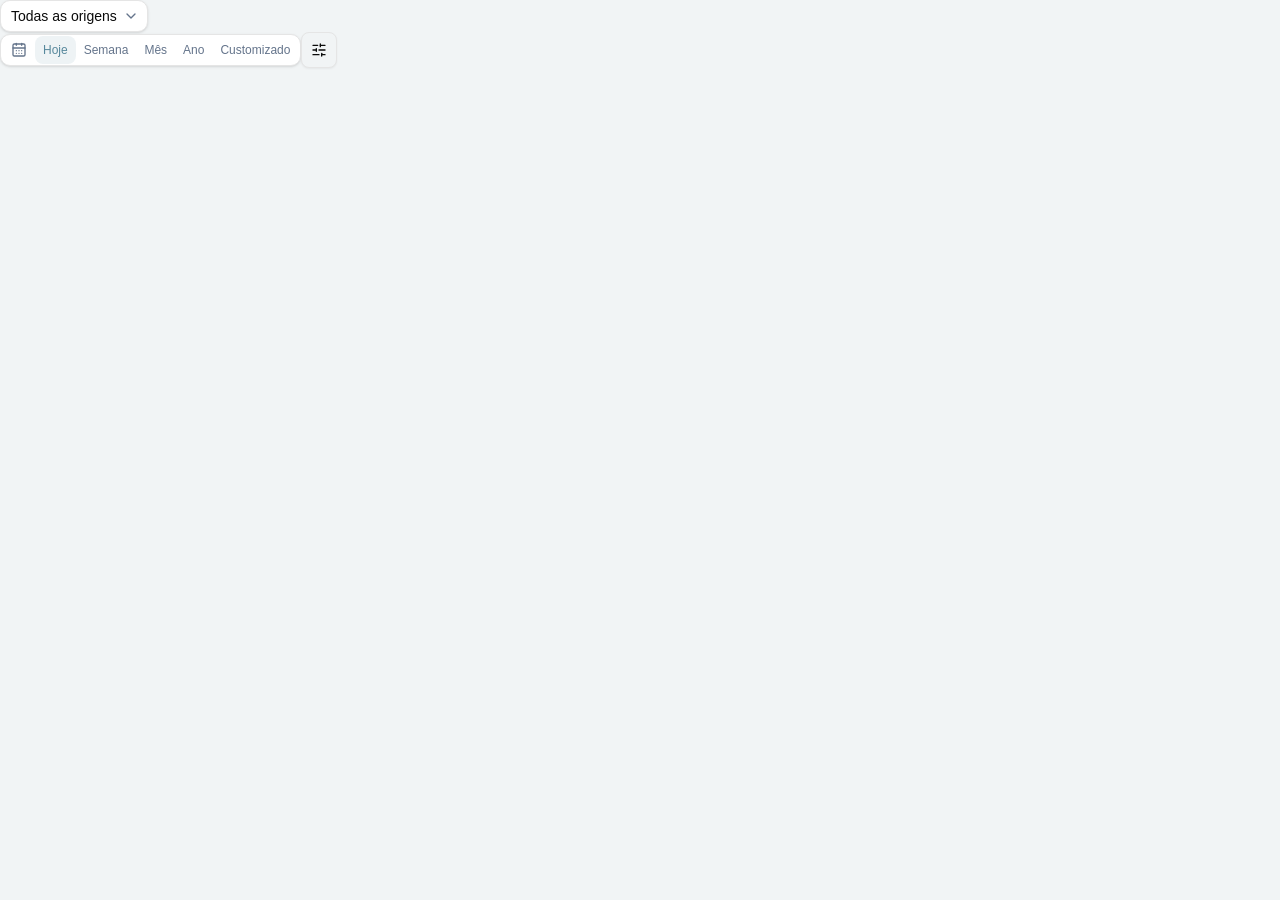
Test: FiltersControls › opens the filter drawer when Customizado is selected
Expected: the field labelled "Início" is not shown
Step 1. Click the button "Customizado" → (255, 50), box [212,36,298,64]
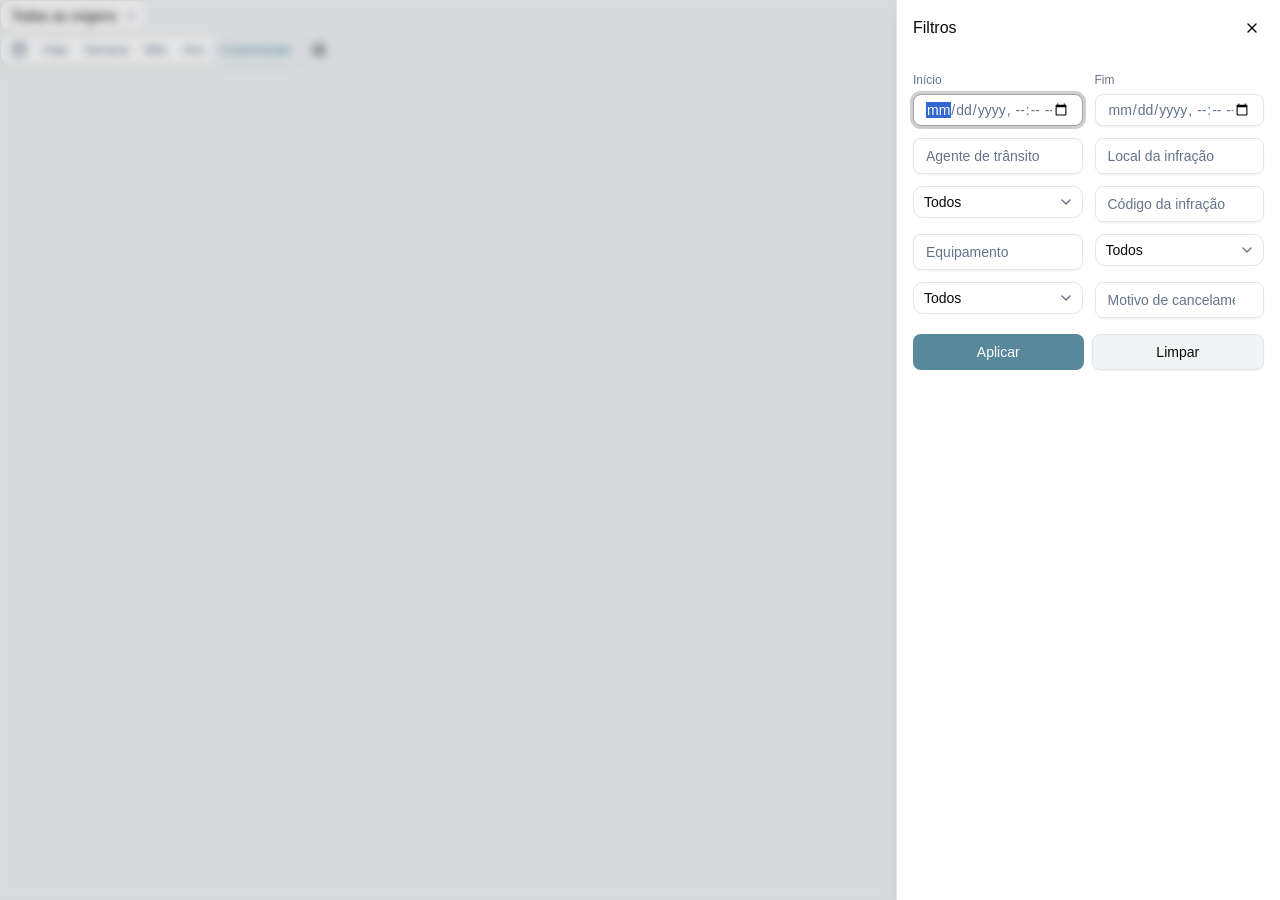
Expected: the field labelled "Início" is shown, [913,94,1082,126]
